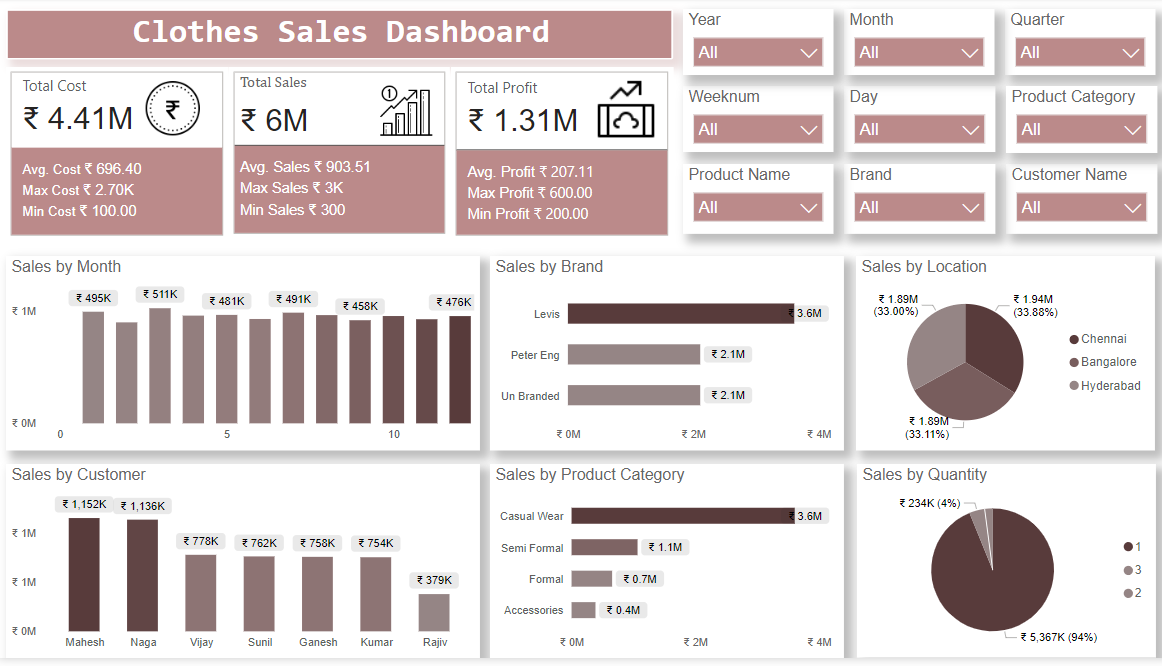

This screenshot's page, from the dashboard's own definition file:
{"tool":"powerbi","page":{"name":"Duplicate of Page 1","canvas":[1280,720],"ordinal":1},"visuals":[{"type":"actionButton","title":"Clothes Sales Dashboard","box":[9,11.6,727.7,55.5],"z":0},{"type":"cardVisual","fields":{"Data":["Data.Cost Amount"]},"box":[9,74.8,242.6,189.7],"z":1000},{"type":"cardVisual","fields":{"Data":["Data.Profit"]},"box":[494.2,74.8,242.6,189.7],"z":2000},{"type":"cardVisual","fields":{"Data":["Data.Sales Amount"]},"box":[251.6,74.8,242.6,189.7],"z":3000},{"type":"slicer","title":"Day","fields":{"Values":["DimDate.Day"]},"box":[921,96,164.8,72],"z":7000},{"type":"slicer","title":"Customer Name","fields":{"Values":["Data.Customer name"]},"box":[1099.9,181.1,164.8,76.4],"z":8000},{"type":"slicer","title":"Quarter","fields":{"Values":["DimDate.Quarter"]},"box":[1099.4,11.6,163.9,72.3],"z":9000},{"type":"slicer","title":"Month","fields":{"Values":["DimDate.Month"]},"box":[922.6,11.6,163.9,72.3],"z":10000},{"type":"slicer","title":"Brand","fields":{"Values":["Product Master.Parent Brand"]},"box":[921,181.1,164.8,76.4],"z":11000},{"type":"slicer","title":"Weeknum","fields":{"Values":["DimDate.Day","DimDate.WeekNum"]},"box":[747.1,96.4,163.9,72.3],"z":12000},{"type":"slicer","title":"Product Category","fields":{"Values":["Data.Product Category"]},"box":[1099.9,96,164.8,73.1],"z":13000},{"type":"slicer","title":"Product Name","fields":{"Values":["Data.Product name"]},"box":[747.5,181.1,163.7,76.4],"z":14000},{"type":"slicer","title":"Year","fields":{"Values":["DimDate.Year"]},"box":[747.1,11.6,163.9,72.3],"z":15000},{"type":"map","fields":{"Category":["Data.Location"],"Size":["Data.Sales Amount"]},"box":[1040.6,273.8,224.2,225.4],"z":15001},{"type":"tableEx","fields":{"Values":["Data.Customer name","Data.Cost Amount","Data.Sales Amount","Data.Profit","Data.Product name","Data.Location","Data.Status","DimDate.Year","DimDate.Month","Data.Product Category"]},"box":[8.7,506.3,769.3,212.8],"z":15002},{"type":"columnChart","fields":{"Category":["Data.Product name"],"Y":["Data.Profit"]},"box":[9.8,273.9,630.7,224.8],"z":15003},{"type":"donutChart","title":"Top \"3\" Customer by Profit","fields":{"Category":["Data.Customer name"],"Y":["Data.Profit"]},"box":[652.1,273.8,377,224.2],"z":15004},{"type":"lineChart","fields":{"Y":["Data.Sales Amount","Data.Profit"],"Category":["Data.Cost Amount"]},"box":[779,505.8,484.2,213.3],"z":15005}]}

Visuals, with their boxes in screenshot pixels (x1, y1, x2, y2), scaled from the page's 1280x720 canvas onto the 1162x666 screenshot:
"Clothes Sales Dashboard" actionButton: bbox=(8, 11, 669, 62)
cardVisual - Data.Cost Amount: bbox=(8, 69, 228, 245)
cardVisual - Data.Profit: bbox=(449, 69, 669, 245)
cardVisual - Data.Sales Amount: bbox=(228, 69, 449, 245)
"Day" slicer: bbox=(836, 89, 986, 155)
"Customer Name" slicer: bbox=(999, 168, 1148, 238)
"Quarter" slicer: bbox=(998, 11, 1147, 78)
"Month" slicer: bbox=(838, 11, 986, 78)
"Brand" slicer: bbox=(836, 168, 986, 238)
"Weeknum" slicer: bbox=(678, 89, 827, 156)
"Product Category" slicer: bbox=(999, 89, 1148, 156)
"Product Name" slicer: bbox=(679, 168, 827, 238)
"Year" slicer: bbox=(678, 11, 827, 78)
map - Data.Location x Data.Sales Amount: bbox=(945, 253, 1148, 462)
tableEx - Data.Customer name x Data.Cost Amount: bbox=(8, 468, 706, 665)
columnChart - Data.Product name x Data.Profit: bbox=(9, 253, 581, 461)
"Top "3" Customer by Profit" donutChart: bbox=(592, 253, 934, 461)
lineChart - Data.Sales Amount x Data.Profit: bbox=(707, 468, 1147, 665)
